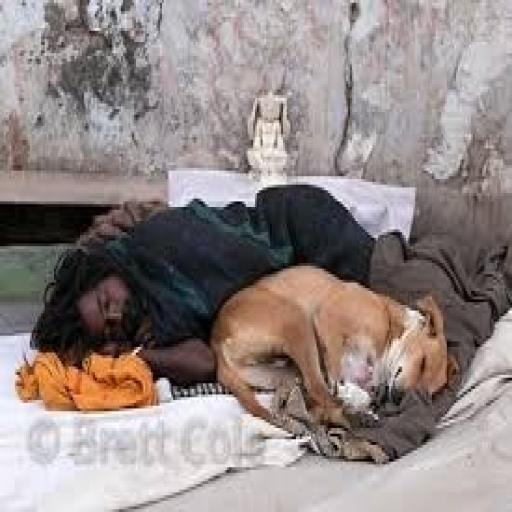sleeping: (30, 174, 510, 406)
